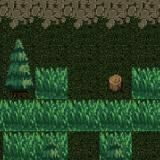Obstacle: (98, 66, 132, 99), (3, 68, 36, 100)
Slow: (0, 100, 160, 131), (2, 129, 68, 160), (36, 67, 68, 99), (99, 131, 132, 160), (132, 66, 160, 99)
